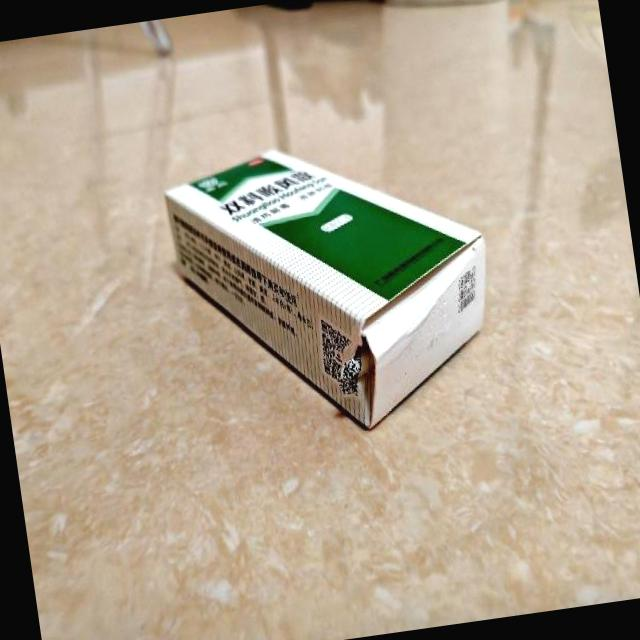box: (160, 119, 507, 453)
